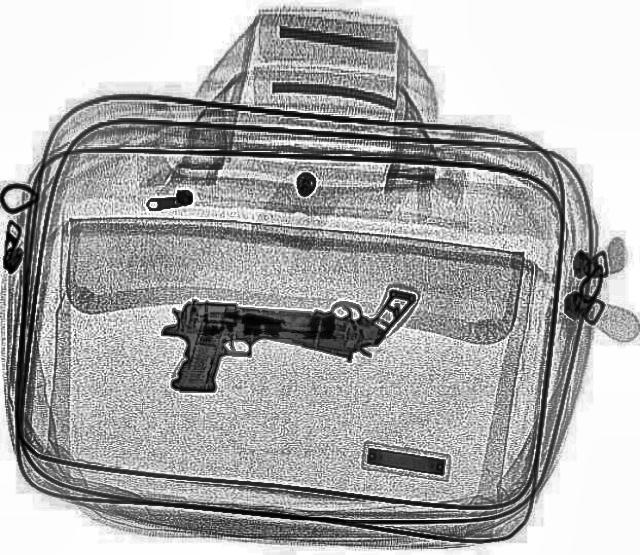Gun: (220, 252, 416, 367), (153, 297, 351, 403)
